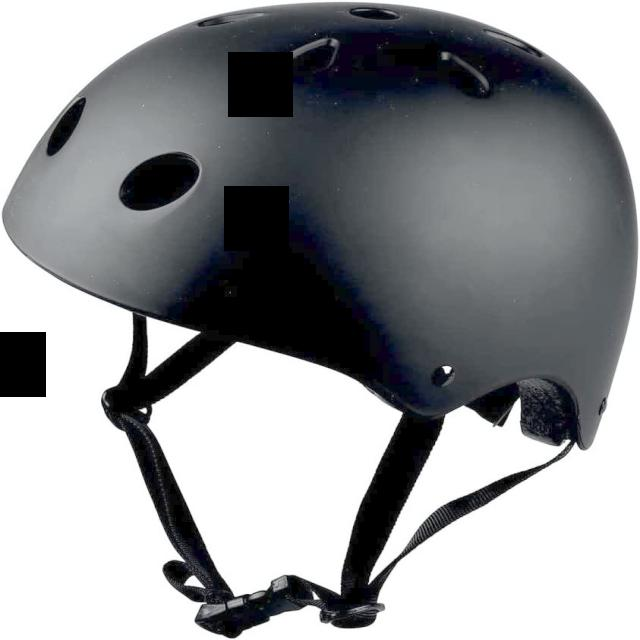Helmet: (4, 2, 639, 452)
